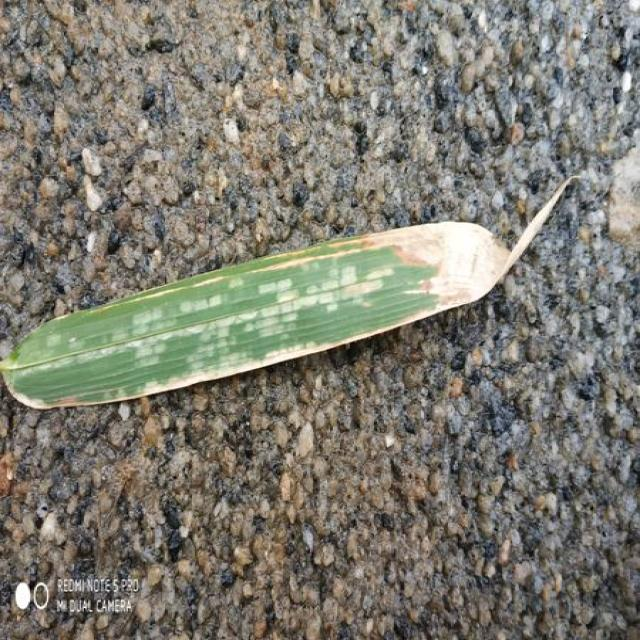Bamboo: (2, 178, 573, 408)
defectedBamboo: (192, 176, 577, 382)
